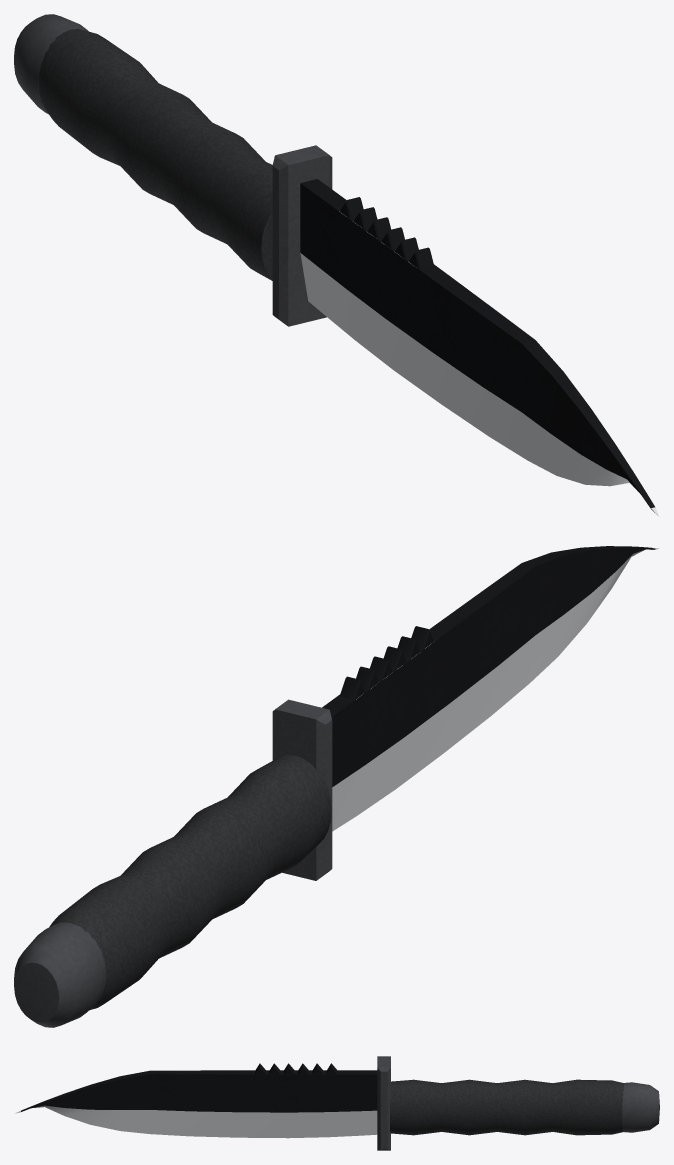
The model's file is combat-knife.glb.
3 renders of one model, top to bottom at view 1: azimuth 30°, elevation 25°; view 2: azimuth 150°, elevation 25°; view 3: azimuth 270°, elevation 25°, orthographic. The views are drawn at different scales.
Visible parts, largest first — view 1: Knife; view 2: Knife; view 3: Knife.
Part boxes in pixels (x1=…): Knife: x1=14, y1=14, x2=659, y2=517; Knife: x1=14, y1=546, x2=659, y2=1027; Knife: x1=15, y1=1056, x2=659, y2=1150.
Size of the model in its own units: 0.0228 by 0.0465 by 0.3255.
4 materials, 3 textured.
